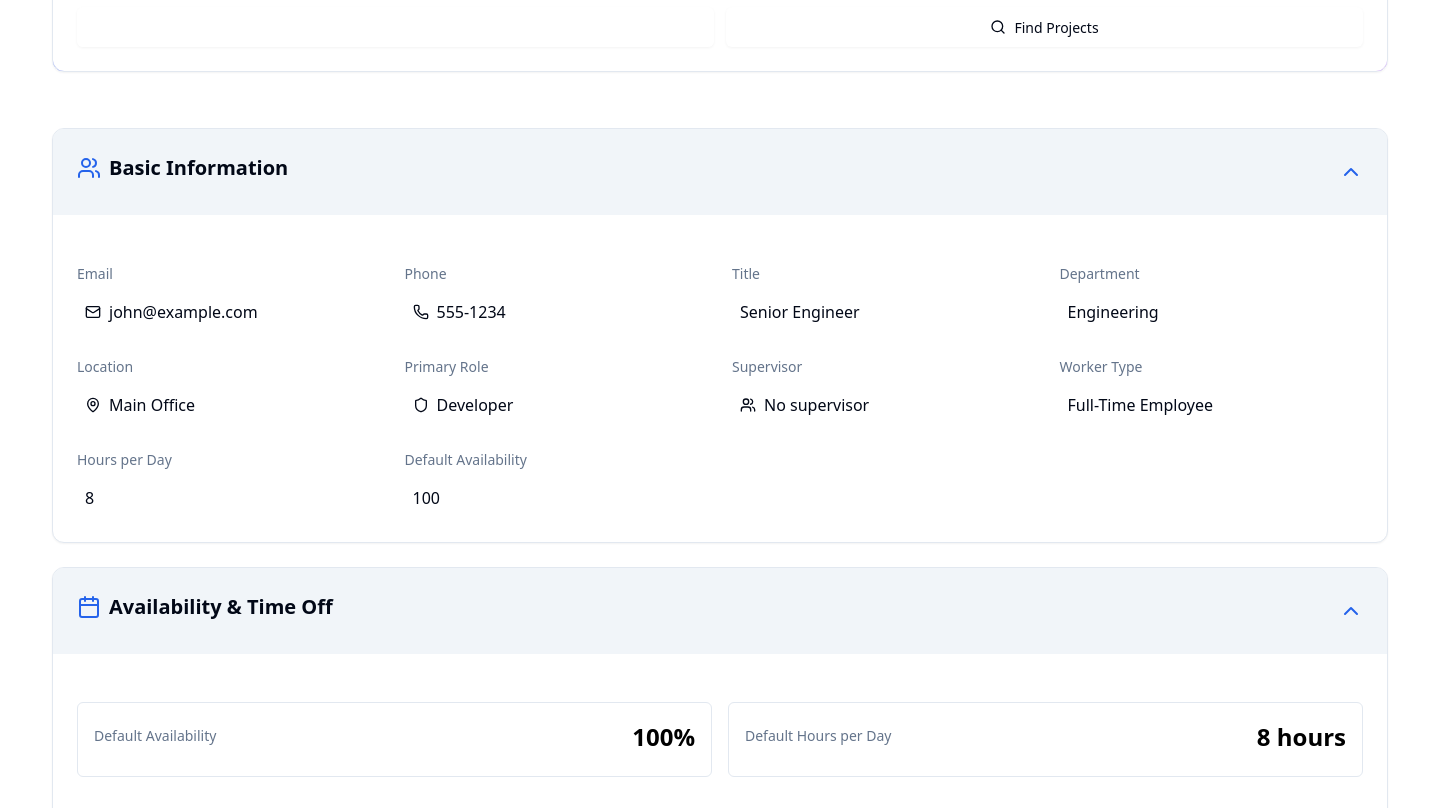
it: PersonDetails › Inline Editing › handles select field editing
(page scrolled)
Expected: the text "Worker Type" is shown, [1060,357,1142,376]
// Find and click the worker type value
Click the text "Full-Time Employee". click: click(1140, 405)
box: [1068,393,1213,417]
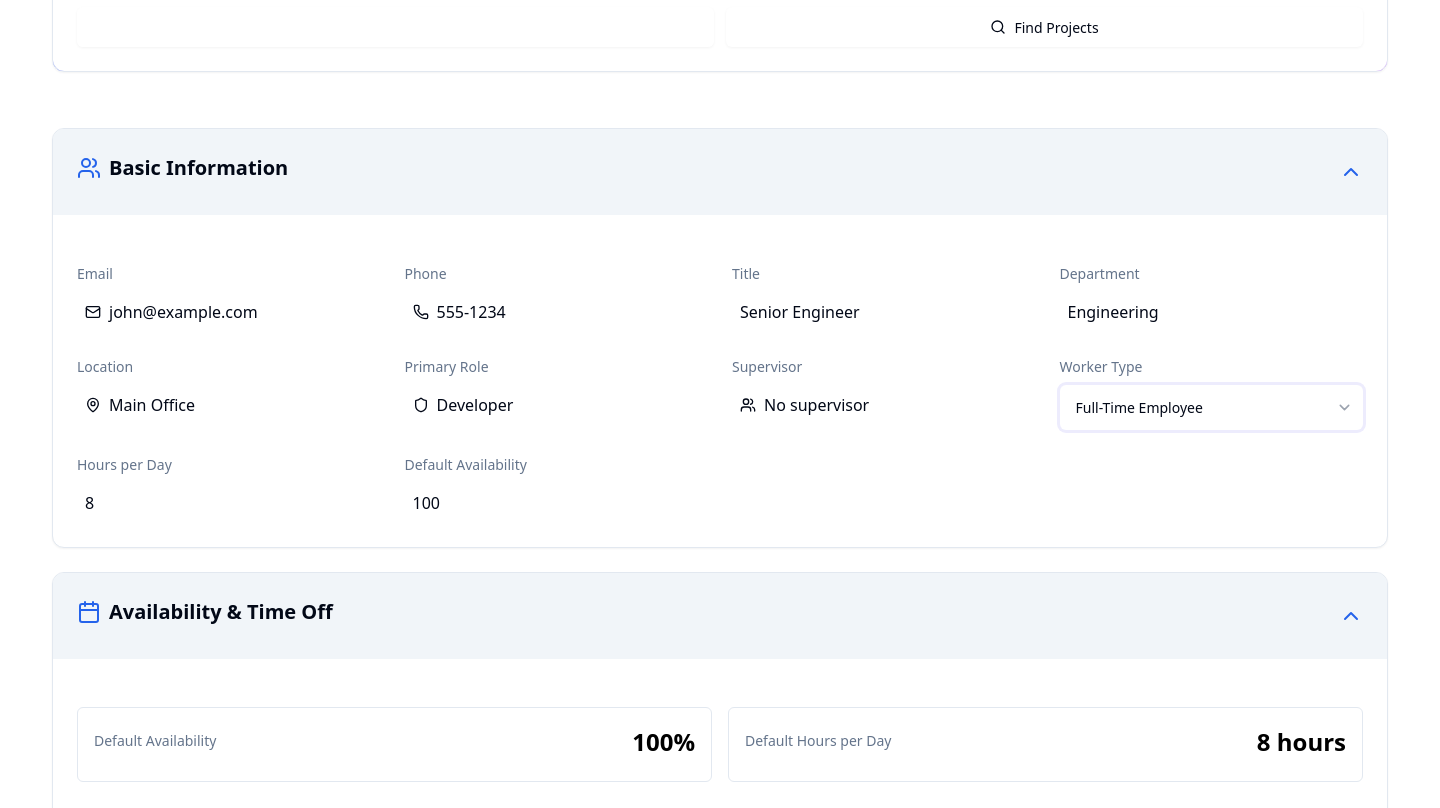
Result: the dropdown is shown at [1060,385,1363,430]
